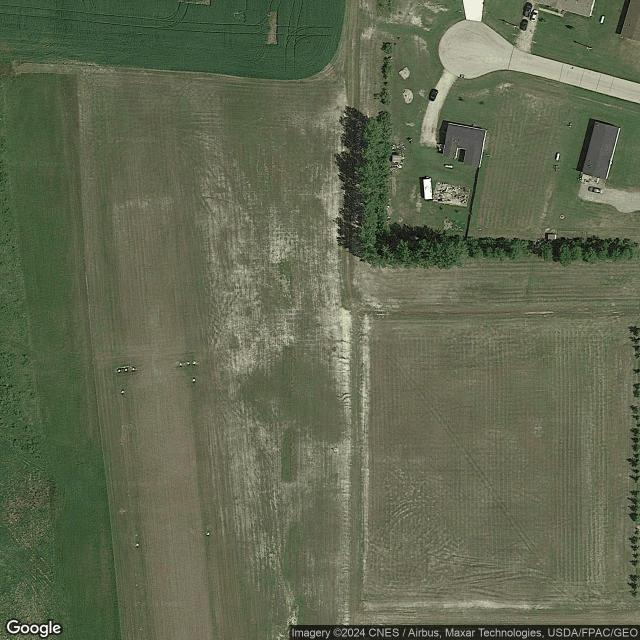Propane: (599, 14, 605, 24), (444, 163, 454, 169), (555, 152, 560, 162)
